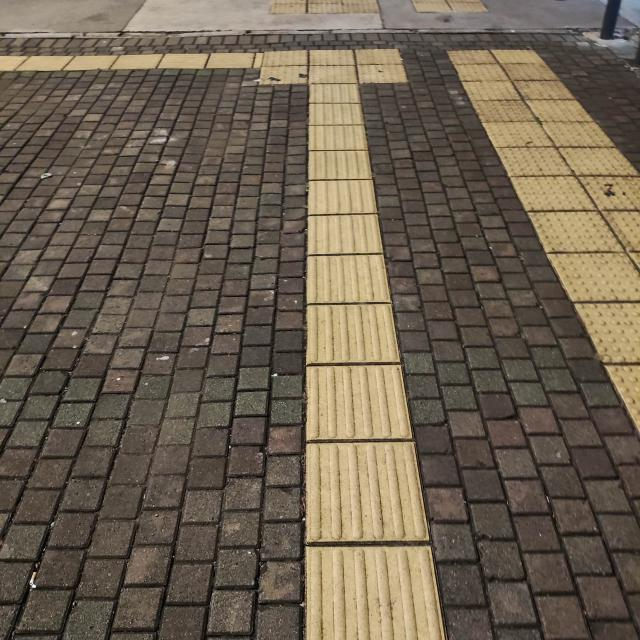kiri: (203, 28, 369, 114)
